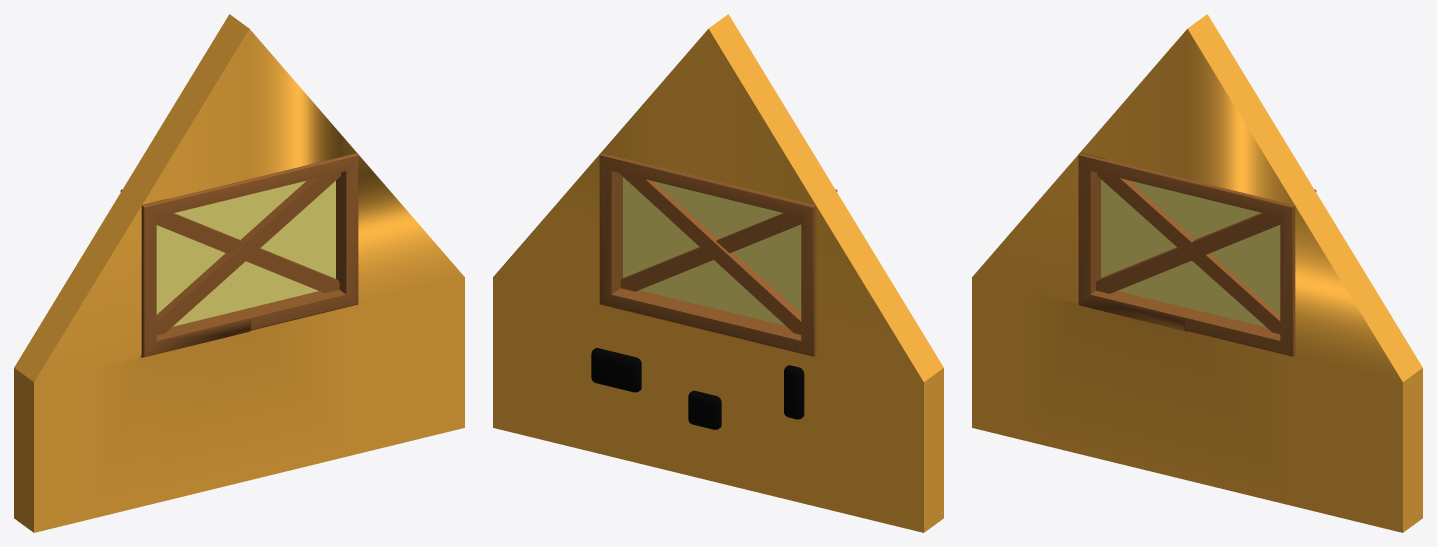
File: Wall Up 5.fbx
The picture shows the model from 3 angles, left to right: view 1: azimuth 30°, elevation 25°; view 2: azimuth 150°, elevation 25°; view 3: azimuth 330°, elevation 25°; orthographic projection.
Visible parts, largest first — view 1: Wall Up 5; view 2: Wall Up 5; view 3: Wall Up 5.
Part boxes in pixels (<box>): Wall Up 5: <box>14,14,464,532</box>; Wall Up 5: <box>493,14,943,532</box>; Wall Up 5: <box>972,14,1422,532</box>.
Bounding box in the file's own units: 249 × 249 × 26.
1 material, 1 textured.
